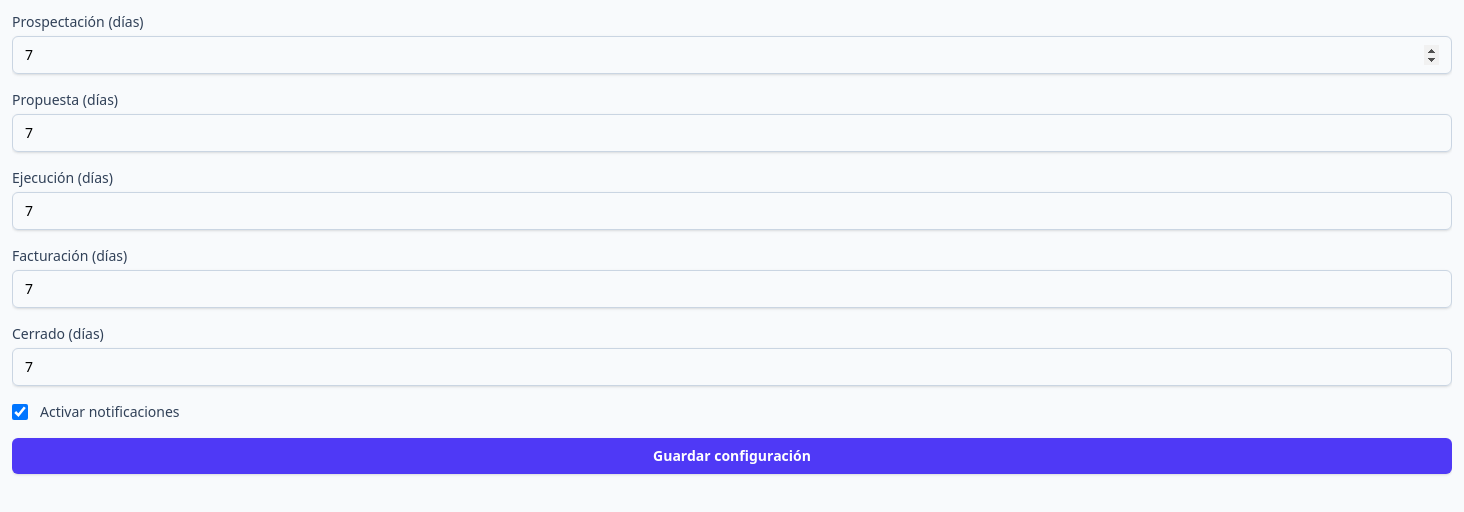
UI de Dashboard y Ajustes — accesibilidad (F04-T03) › SettingsForm › muestra error visual cuando un umbral supera 365 días
Replace the text in the number field labelled "Prospectación (días)" with "400". click: (732, 55)
box: [12,36,1452,74]
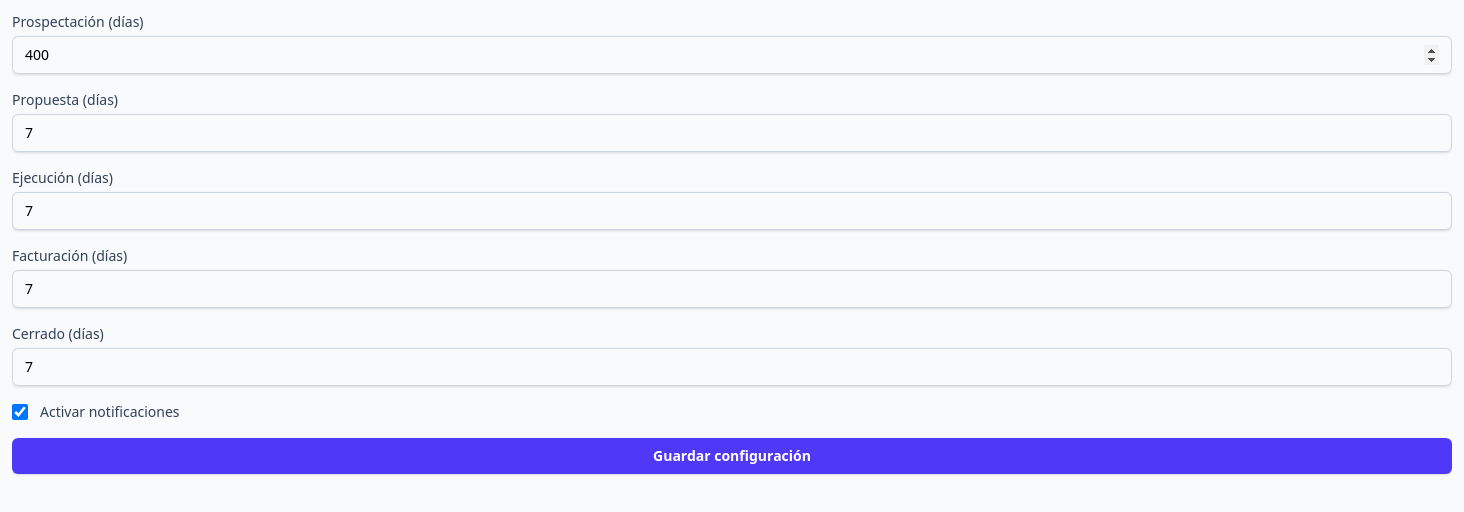
Click the button "Guardar configuración". click: (732, 456)
box: [12,438,1452,474]
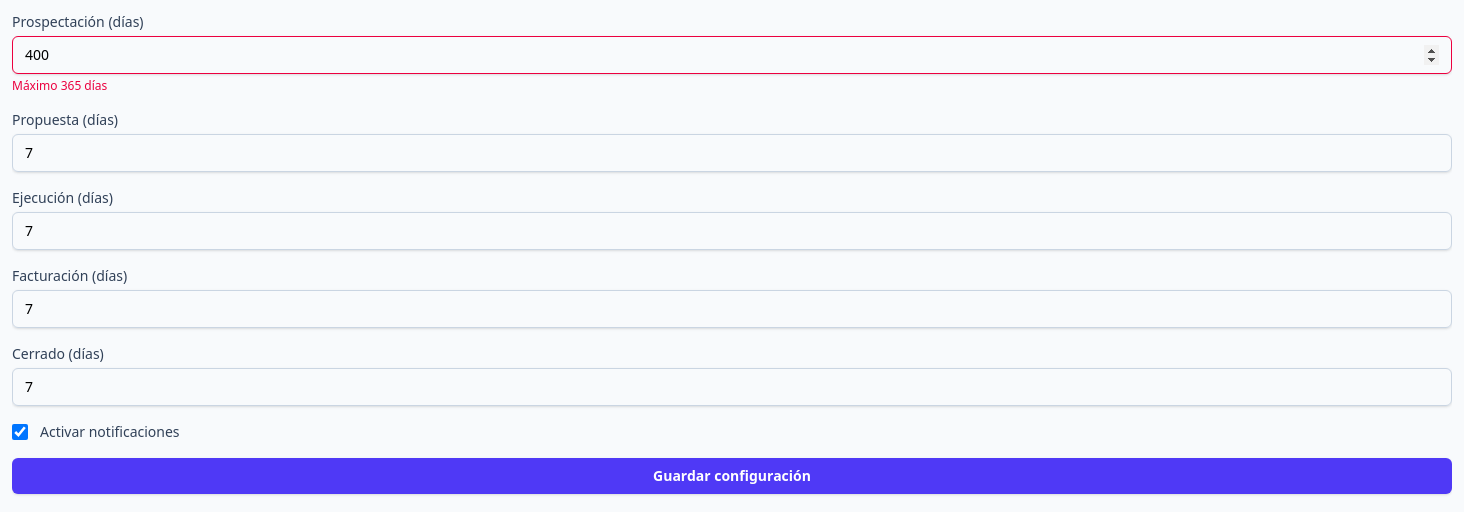
Now the text "Máximo 365 días" is shown, box [12,77,107,94]
